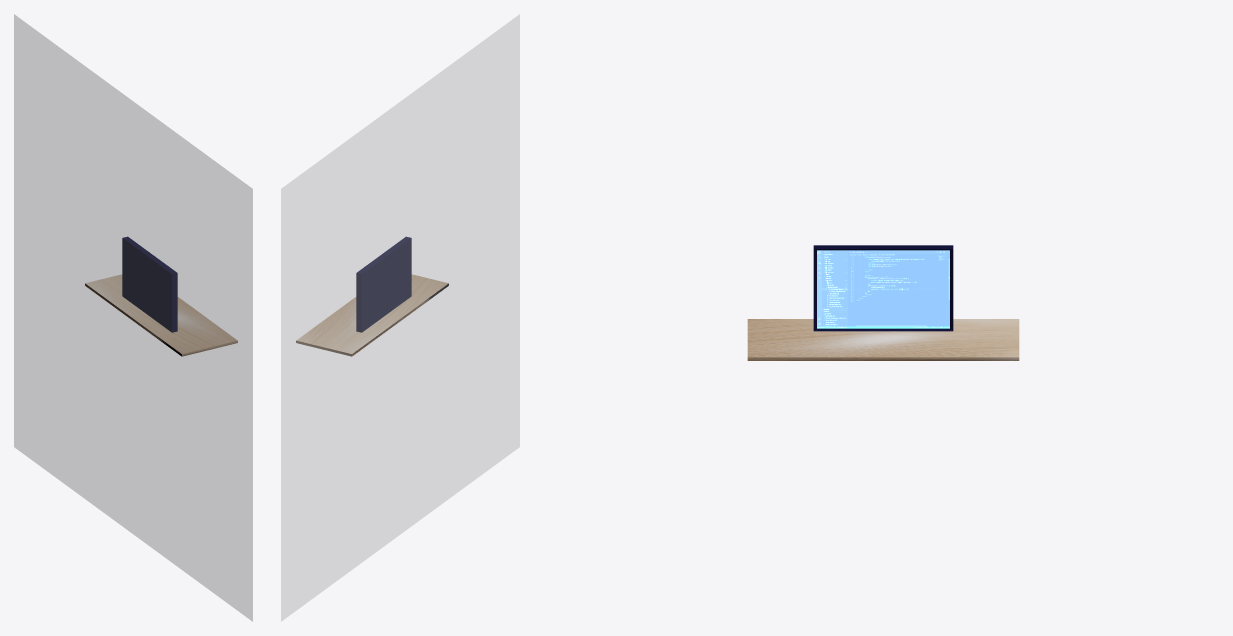
File: screen.glb
The picture shows the model from 3 angles, left to right: view 1: azimuth 30°, elevation 25°; view 2: azimuth 150°, elevation 25°; view 3: azimuth 270°, elevation 25°; orthographic projection. The views are drawn at different scales.
Visible parts, largest first — view 1: Window, Table, Screen; view 2: Window, Table, Screen; view 3: Screen, Table.
Part boxes in pixels (bbox=[...]): Window: bbox=[14, 14, 252, 621]; Table: bbox=[85, 274, 237, 356]; Screen: bbox=[122, 236, 177, 332]; Window: bbox=[281, 14, 519, 621]; Table: bbox=[296, 274, 448, 356]; Screen: bbox=[356, 236, 411, 332]; Screen: bbox=[813, 245, 953, 331]; Table: bbox=[747, 319, 1019, 360].
Size of the model in its own units: 2 by 14.8 by 14.8.
Materials: 4 (2 with a texture image).
